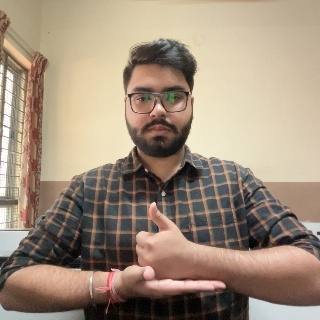Face: (127, 46, 194, 162)
Help: (109, 200, 226, 304)
